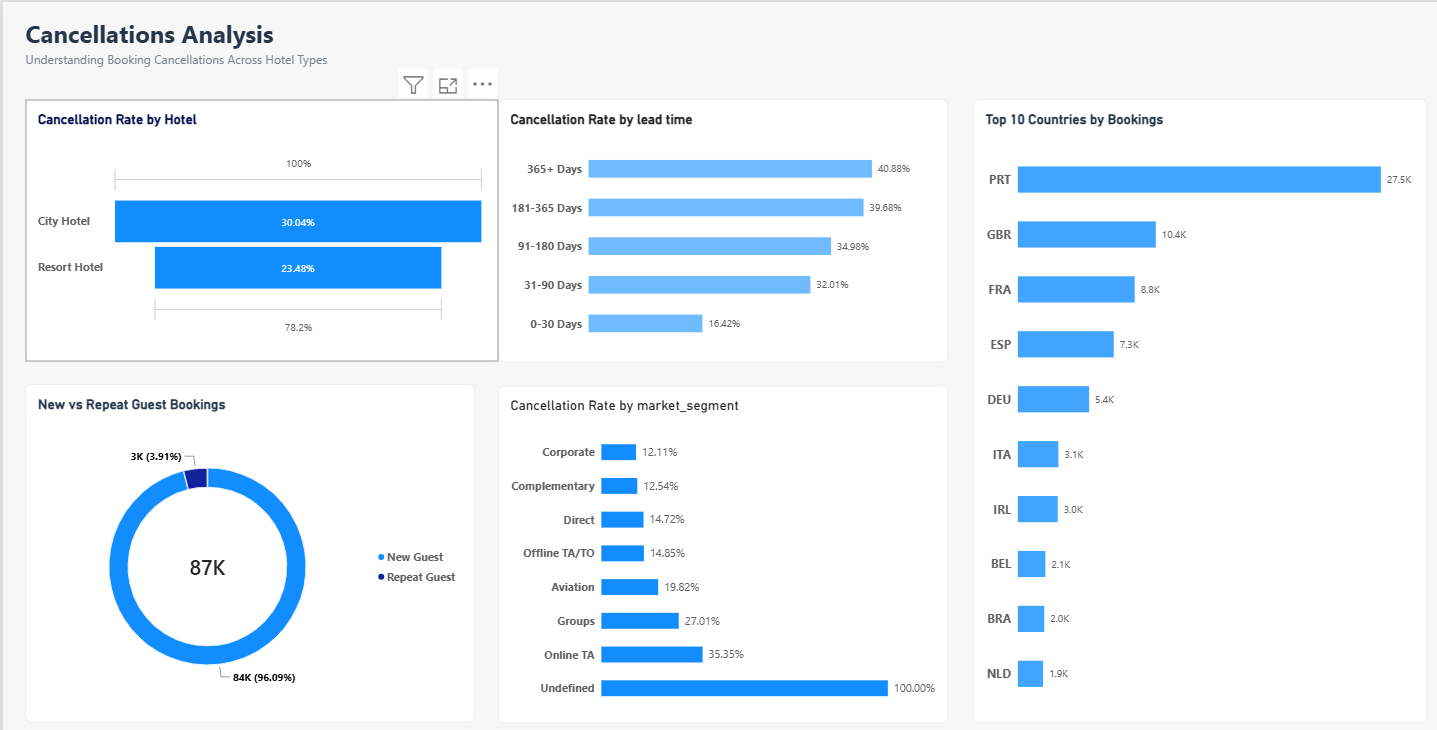

What the dashboard file says about the page in this screenshot:
{"tool":"powerbi","page":{"name":"Cancellation Analysis","canvas":[1920,1080],"ordinal":1},"visuals":[{"type":"textbox","title":"Cancellations Analysis","box":[30,20,1236,78],"z":0},{"type":"clusteredBarChart","title":"Cancellation Rate by lead time","fields":{"Category":["hotel_bookings_cleaned.lead_time_group"],"Y":["hotel_bookings_cleaned.Cancellation Rate"]},"box":[660,130,600,350],"z":1000},{"type":"donutChart","title":"New vs Repeat Guest Bookings","fields":{"Category":["hotel_bookings_cleaned.Guest Type"],"Y":["hotel_bookings_cleaned.Total Bookings"]},"box":[30.3,510.7,599.5,450.1],"z":2000},{"type":"clusteredBarChart","title":"Top 10 Countries by Bookings","fields":{"Category":["hotel_bookings_cleaned.country"],"Y":["hotel_bookings_cleaned.Total Bookings"]},"box":[1294.2,129.8,606,831],"z":3000},{"type":"clusteredBarChart","fields":{"Category":["hotel_bookings_cleaned.market_segment"],"Y":["hotel_bookings_cleaned.Cancellation Rate"]},"box":[660,511,600,450],"z":4000},{"type":"funnel","title":"Cancellation Rate by Hotel","fields":{"Category":["hotel_bookings_cleaned.hotel"],"Y":["hotel_bookings_cleaned.Cancellation Rate"]},"box":[30,130,630,350],"z":5000}]}

Visuals, with their boxes on the page's 1920x1080 design canvas (x1, y1, x2, y2). These are canvas units, not pixel positions in the 1437x730 screenshot, which may show the page scaled, cropped or inside an application window:
"Cancellations Analysis" textbox: 30:20:1266:98
"Cancellation Rate by lead time" clusteredBarChart: 660:130:1260:480
"New vs Repeat Guest Bookings" donutChart: 30:511:630:961
"Top 10 Countries by Bookings" clusteredBarChart: 1294:130:1900:961
clusteredBarChart - hotel_bookings_cleaned.market_segment x hotel_bookings_cleaned.Cancellation Rate: 660:511:1260:961
"Cancellation Rate by Hotel" funnel: 30:130:660:480
